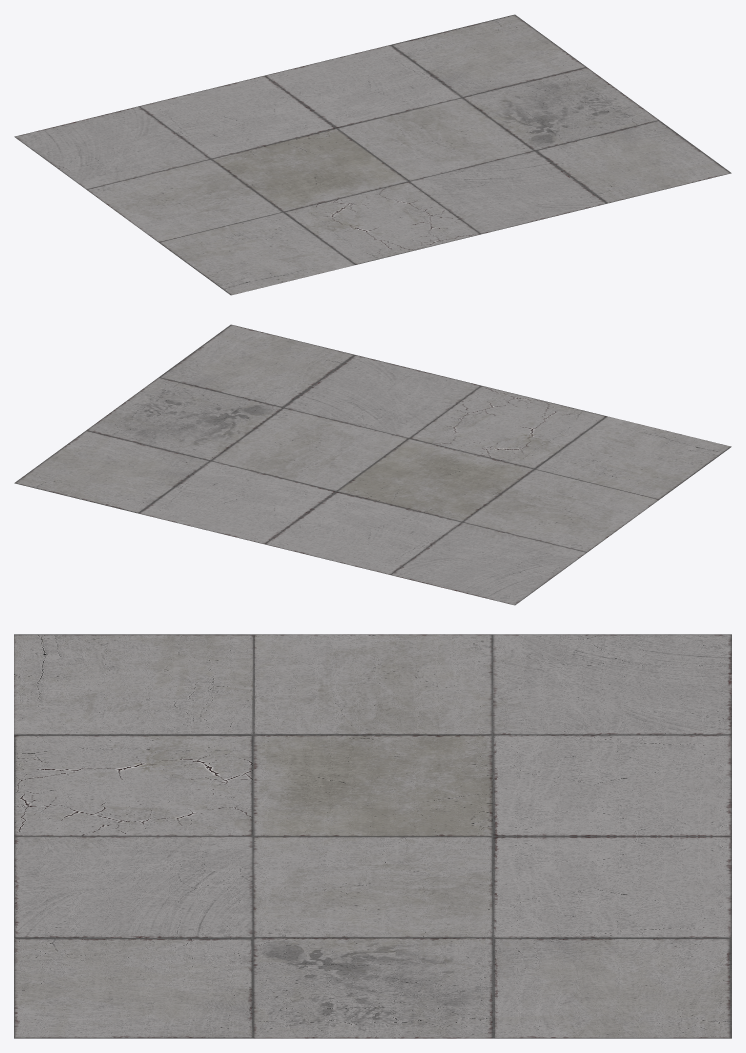
Rendered from MB_Sidewalk_4x3m_02.fbx.
3 views of the same model, one above another, from view 1: azimuth 30°, elevation 25°; view 2: azimuth 150°, elevation 25°; view 3: azimuth 270°, elevation 25° (orthographic). The views are drawn at different scales.
Parts seen in each view (by area): view 1: MB_Sidewalk_4x3m_02; view 2: MB_Sidewalk_4x3m_02; view 3: MB_Sidewalk_4x3m_02.
Boxes of the visible parts, x1,y1,x2,y2 form: MB_Sidewalk_4x3m_02: (14,14,731,295); MB_Sidewalk_4x3m_02: (14,324,731,605); MB_Sidewalk_4x3m_02: (14,634,731,1038).
Size of the model in its own units: 400 by 0 by 300.
